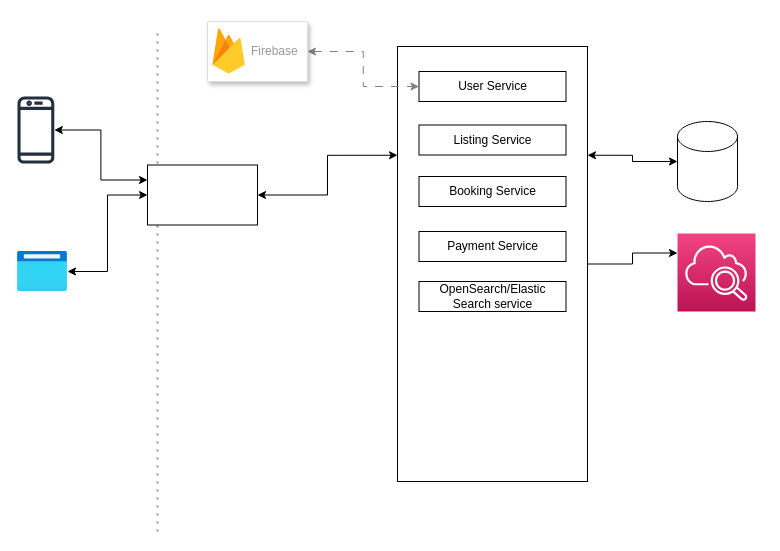
Some shapes in this 780 by 551 pixel diagram are drawn without their labels. The centre of each missing label's shape, as x and y in pixels:
"API Gateway" goes at pixel 202 194.
"CloudWatch Logs" goes at pixel 716 272.
"MySql" goes at pixel 707 161.
